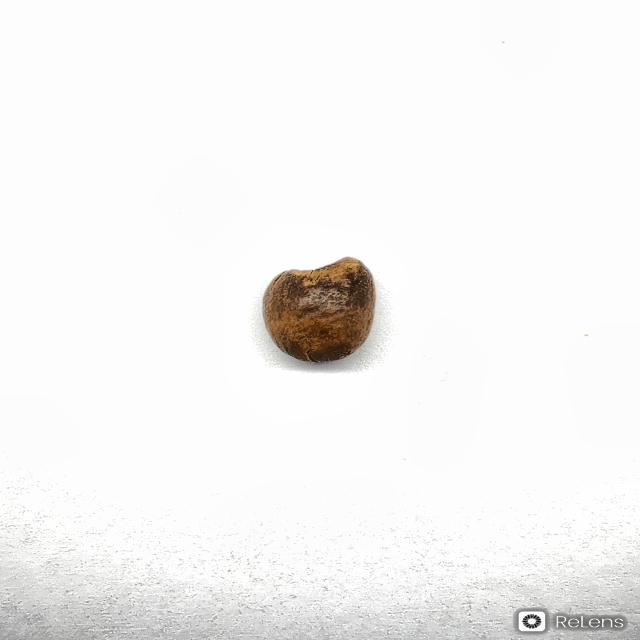Insect damage: (261, 255, 377, 363)
